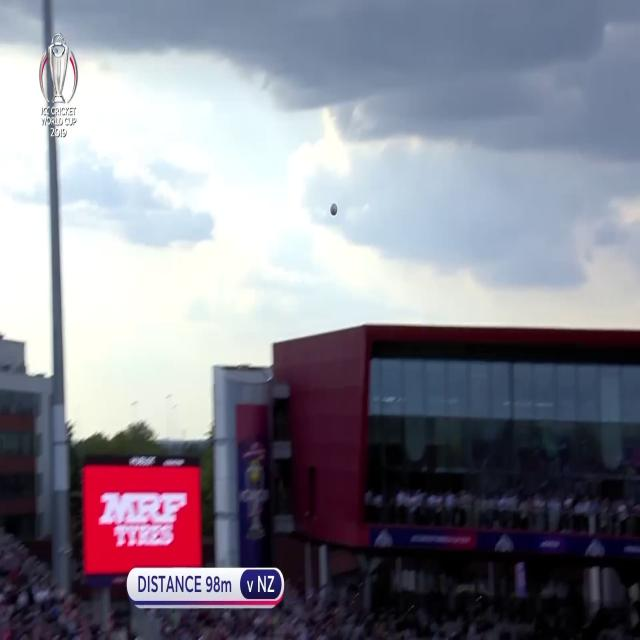ball: (328, 200, 339, 218)
